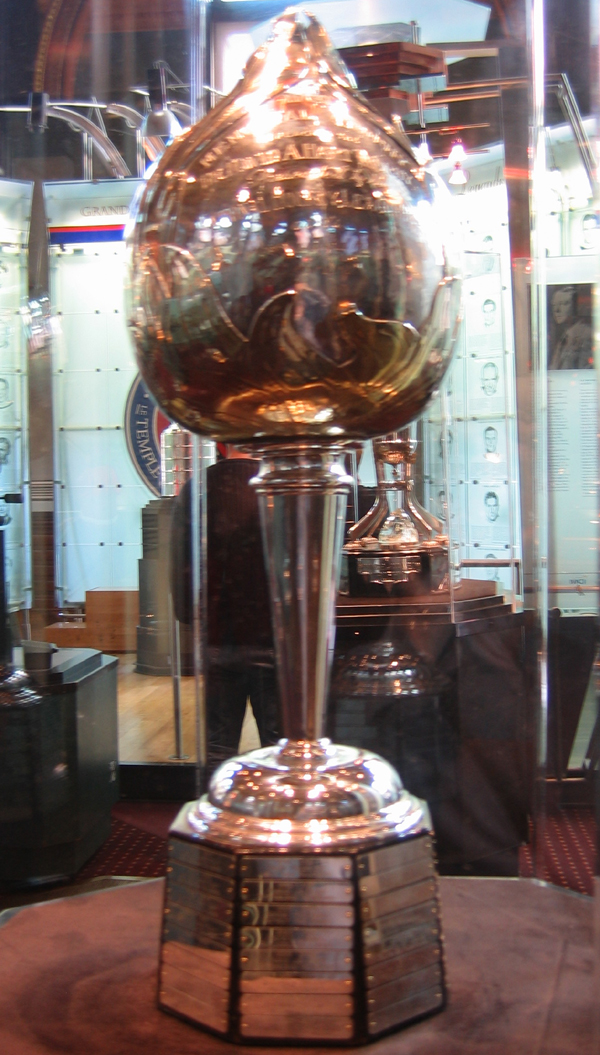trophy: (121, 8, 464, 1055)
